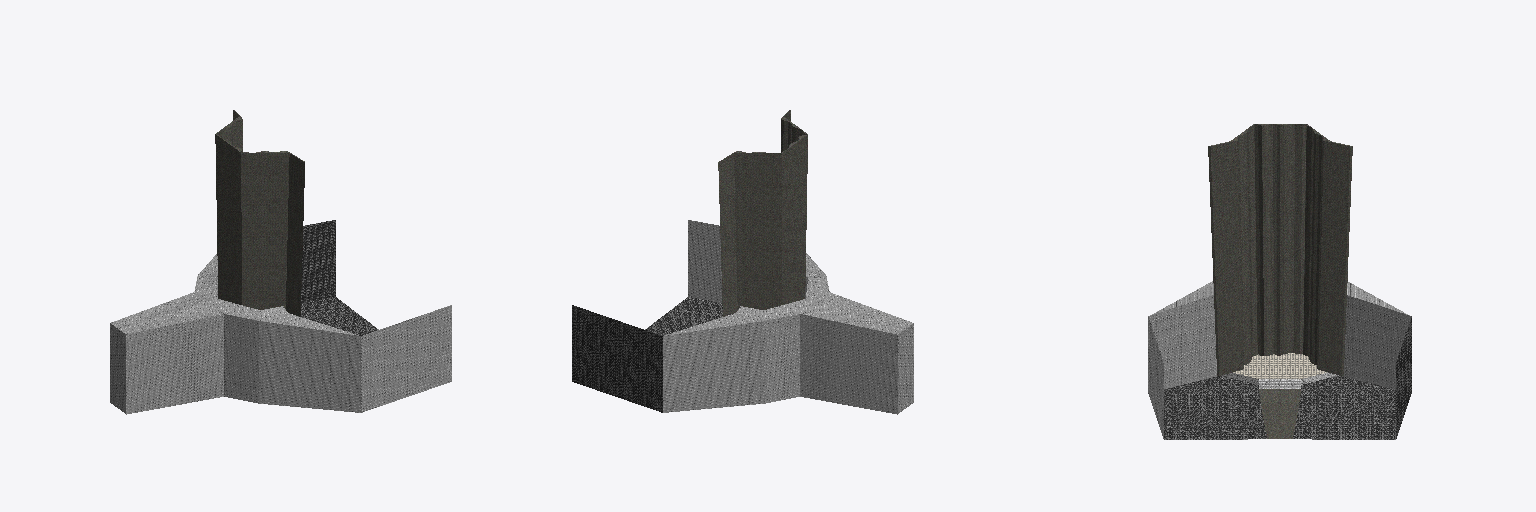
The picture shows the model from 3 angles: view 1: azimuth 30°, elevation 25°; view 2: azimuth 150°, elevation 25°; view 3: azimuth 270°, elevation 25°; orthographic projection.
Parts seen in each view (by area): view 1: Stage; view 2: Stage; view 3: Stage.
Boxes of the visible parts, x1=… form: Stage: x1=110, y1=110, x2=451, y2=414; Stage: x1=572, y1=110, x2=913, y2=414; Stage: x1=1148, y1=124, x2=1411, y2=439.
Size of the model in its own units: 98.43 by 81.25 by 81.49.
Materials: 5 (5 with a texture image).